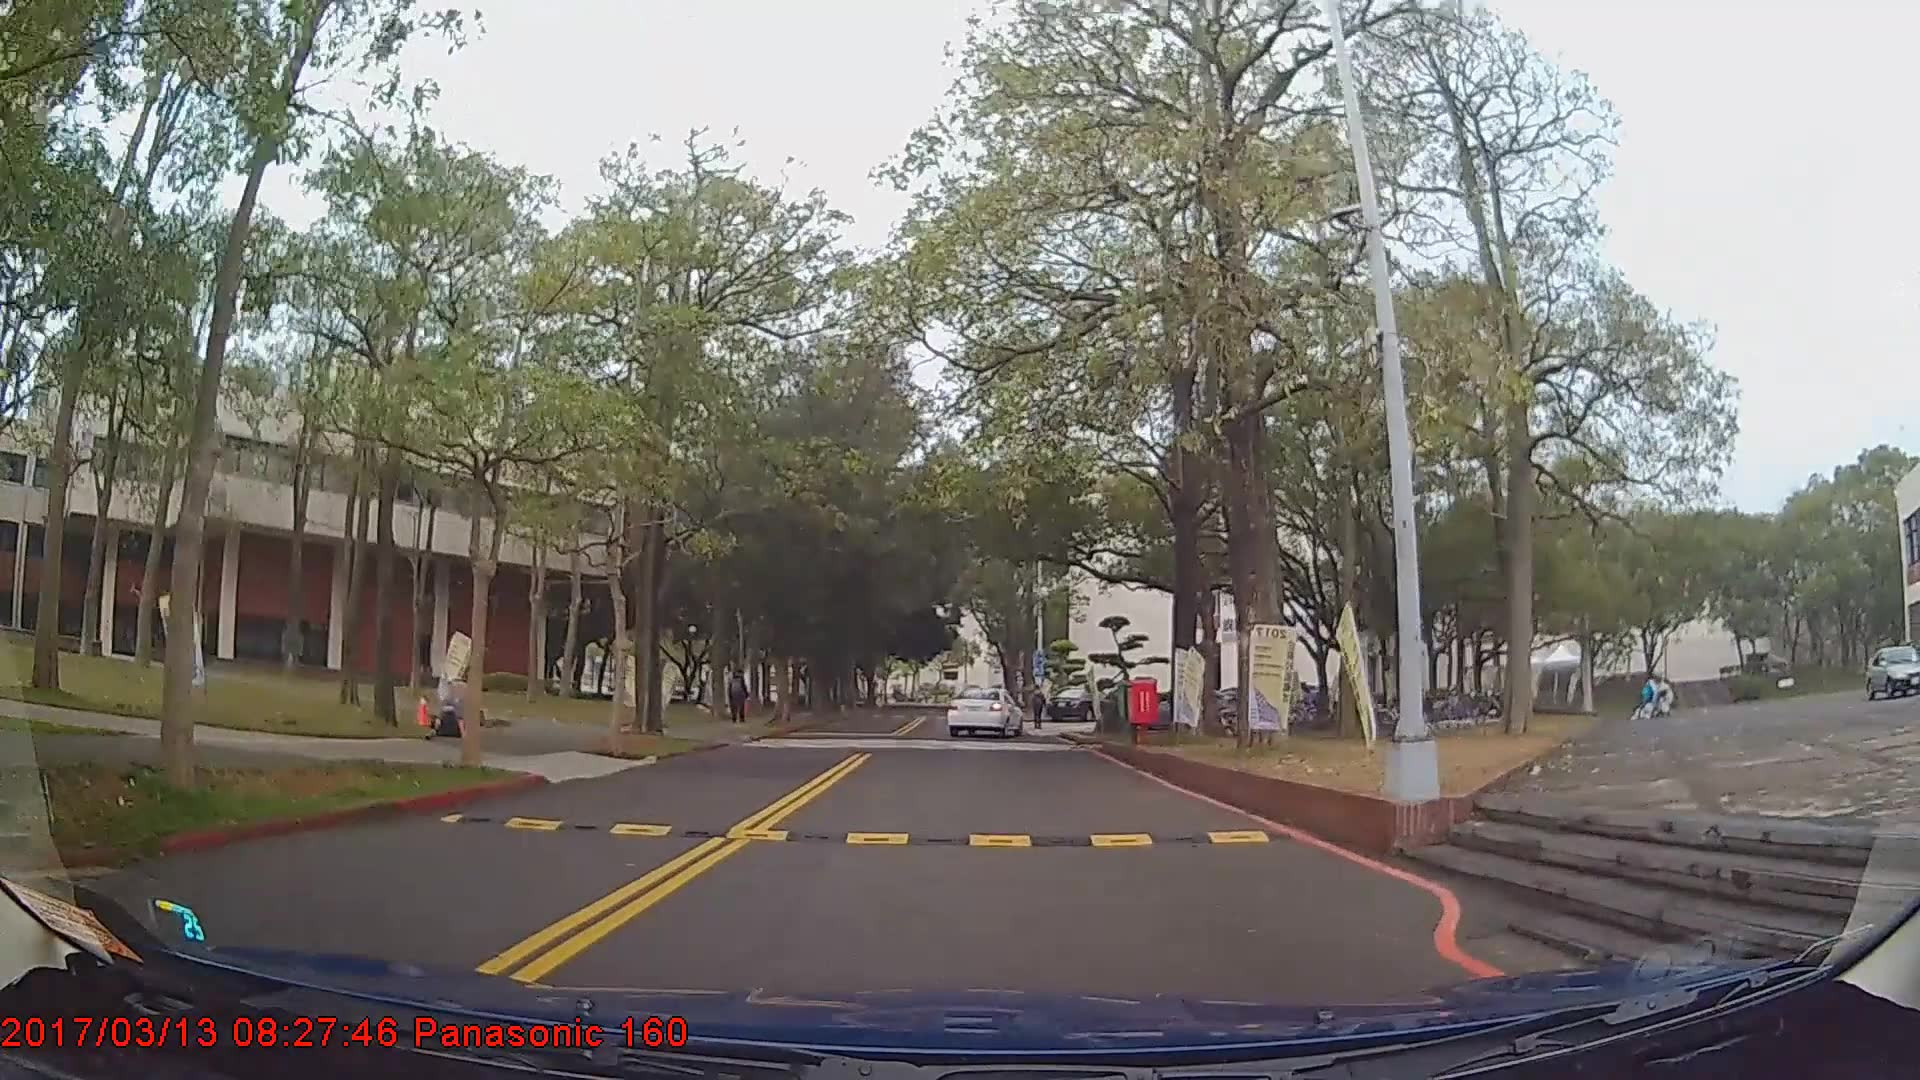pedestrian: (727, 669, 752, 725)
vehicle: (946, 688, 1023, 739), (1860, 642, 1920, 704), (1048, 684, 1105, 719)
